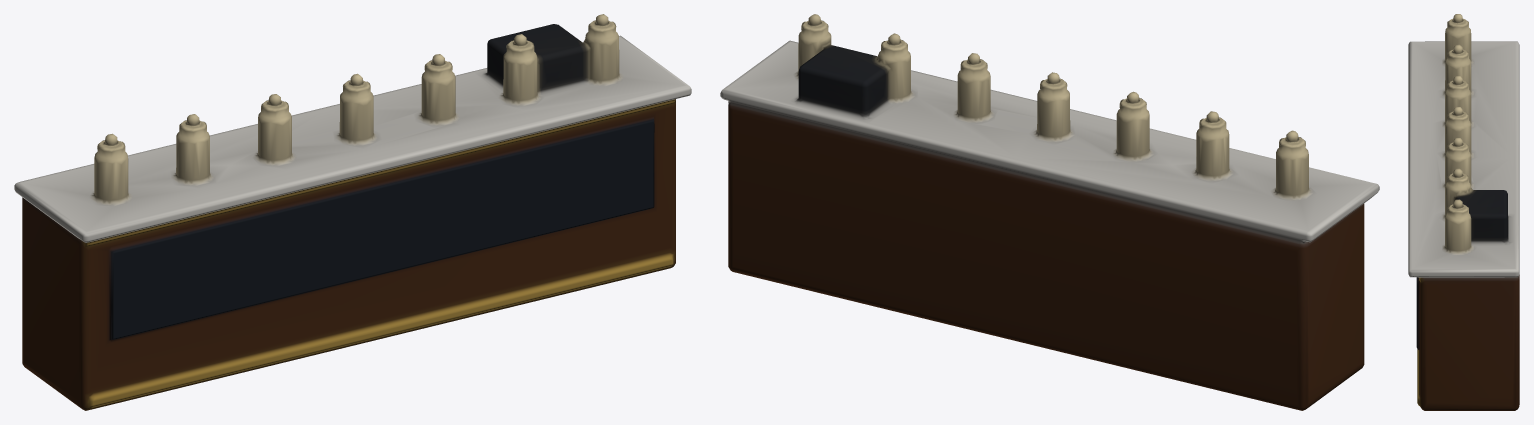
The model's file is lumiere-concession-counter.glb.
3 views of the same model, side by side, from view 1: azimuth 30°, elevation 25°; view 2: azimuth 150°, elevation 25°; view 3: azimuth 270°, elevation 25° (orthographic). The views are drawn at different scales.
Visible parts, largest first — view 1: lumiere-concession-counter_LOD0; view 2: lumiere-concession-counter_LOD0; view 3: lumiere-concession-counter_LOD0.
Part boxes in pixels (x1=…): lumiere-concession-counter_LOD0: x1=14, y1=14, x2=691, y2=410; lumiere-concession-counter_LOD0: x1=720, y1=14, x2=1379, y2=410; lumiere-concession-counter_LOD0: x1=1408, y1=14, x2=1519, y2=410.
Size of what is drawn, in the model's own units: 3.72 by 1.45 by 0.76.
